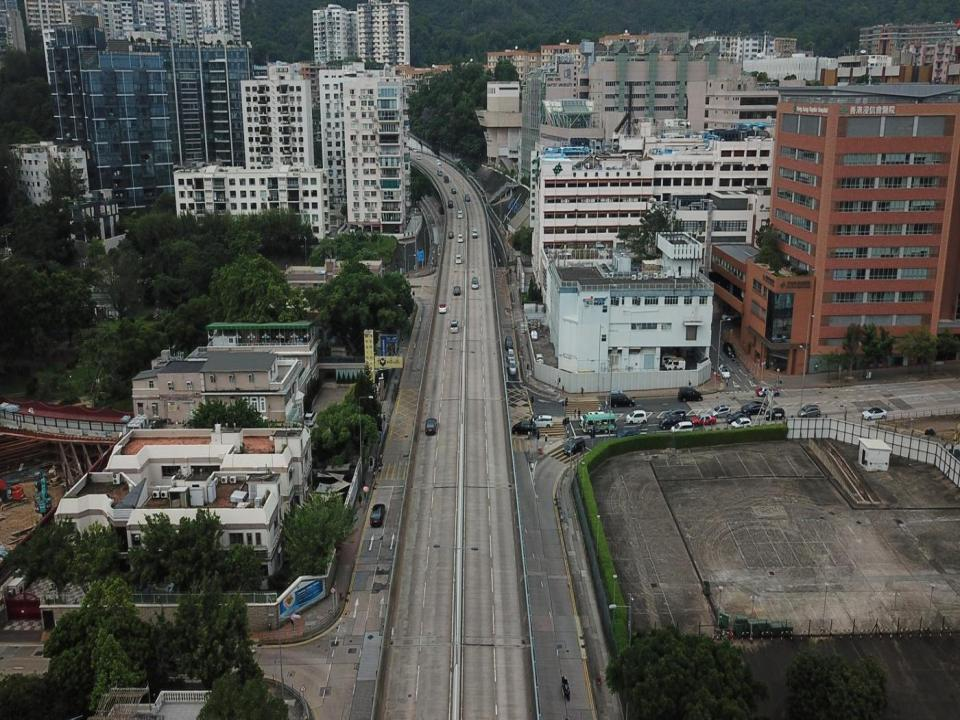bus: (582, 412, 616, 433)
car: (690, 413, 716, 426), (725, 411, 751, 424), (370, 505, 386, 526), (742, 401, 766, 415), (797, 404, 821, 417), (625, 409, 647, 423), (615, 428, 640, 440), (730, 417, 752, 430), (861, 408, 887, 419), (755, 386, 780, 397), (711, 404, 731, 417), (303, 410, 318, 426), (764, 408, 784, 420), (424, 418, 437, 434), (718, 366, 730, 378), (471, 277, 479, 289), (530, 330, 538, 340), (453, 286, 461, 295), (439, 304, 446, 313), (448, 231, 454, 239), (394, 227, 400, 233), (412, 148, 418, 153), (451, 188, 456, 194), (436, 160, 441, 164)
van: (579, 411, 605, 427), (572, 370, 594, 388), (564, 438, 586, 456), (609, 393, 634, 407), (677, 388, 703, 401), (512, 421, 535, 435), (670, 421, 693, 435), (664, 408, 686, 422), (530, 415, 553, 428), (658, 415, 681, 428), (723, 342, 736, 357), (508, 358, 516, 375), (506, 348, 515, 363), (534, 354, 544, 366), (450, 319, 459, 332), (505, 336, 513, 350), (455, 254, 462, 263), (350, 224, 357, 233), (472, 228, 477, 238), (447, 200, 453, 208), (458, 234, 464, 242), (438, 207, 444, 214), (444, 175, 449, 183), (458, 210, 463, 218), (465, 194, 470, 201), (437, 169, 442, 175), (416, 154, 421, 159), (328, 205, 334, 209)
